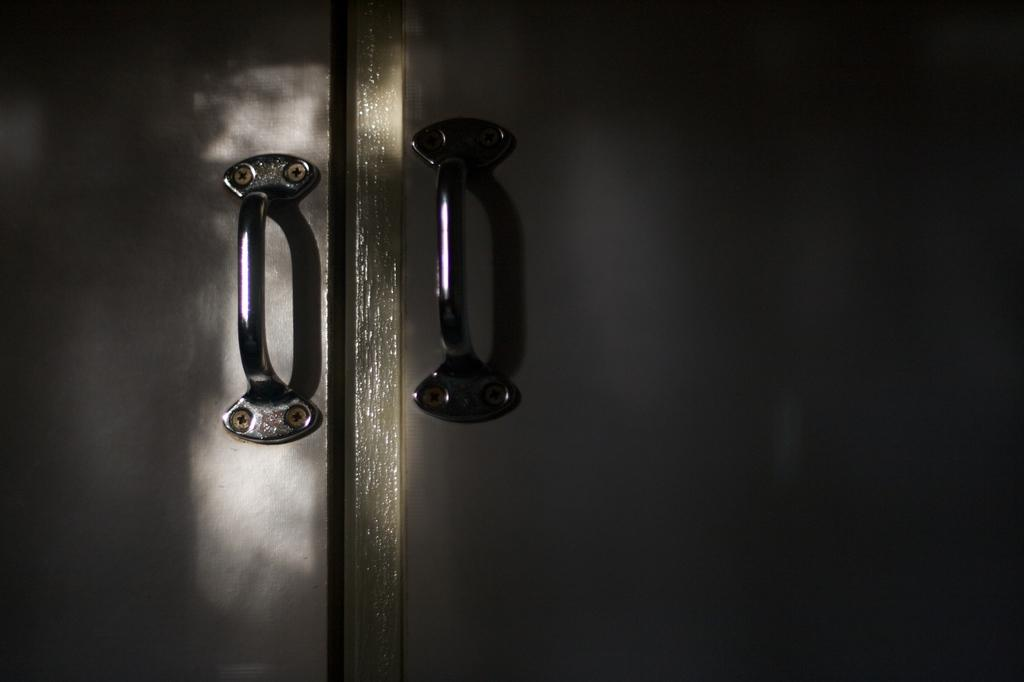cabinet_door: (411, 10, 1005, 682), (7, 4, 329, 658)
handle: (408, 103, 519, 429), (215, 154, 317, 442)
